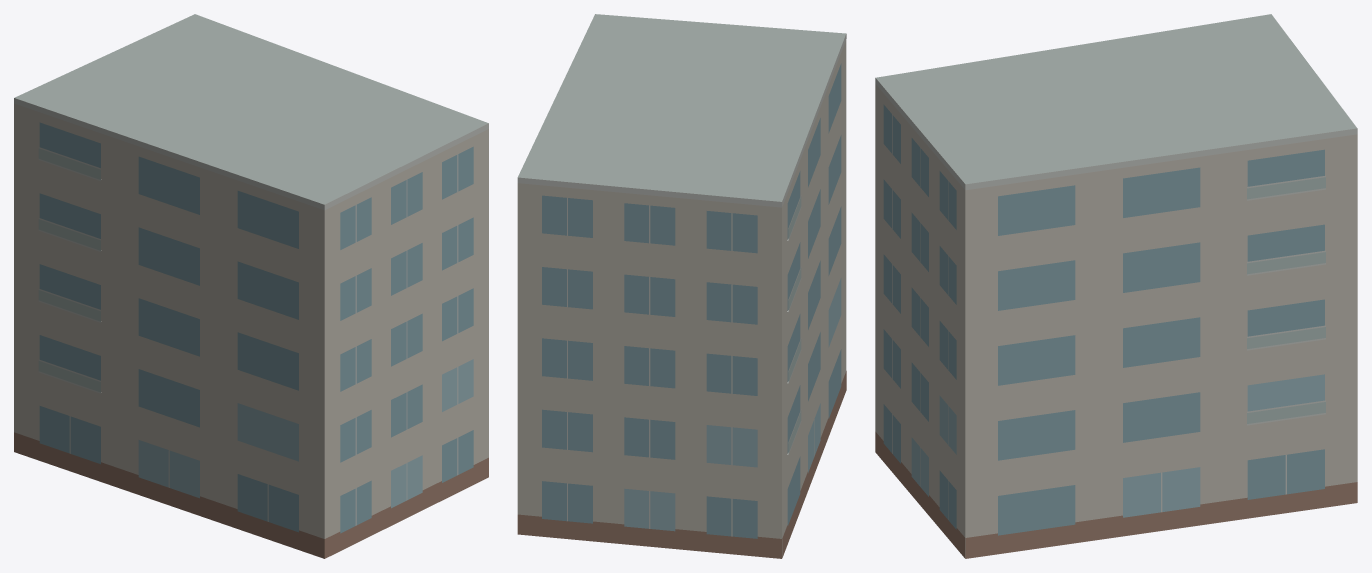
File: survey-upis-32554620.glb
The picture shows the model from 3 angles, left to right: view 1: azimuth 30°, elevation 25°; view 2: azimuth 150°, elevation 25°; view 3: azimuth 270°, elevation 25°; orthographic projection. The views are drawn at different scales.
Parts seen in each view (by area): view 1: survey-upis-32554620.tmp; view 2: survey-upis-32554620.tmp; view 3: survey-upis-32554620.tmp.
Boxes of the visible parts, bbox=[...] form: survey-upis-32554620.tmp: bbox=[14, 14, 488, 558]; survey-upis-32554620.tmp: bbox=[517, 14, 846, 558]; survey-upis-32554620.tmp: bbox=[875, 14, 1357, 558].
Size of the model in its own units: 15.03 by 15.4 by 17.98.
